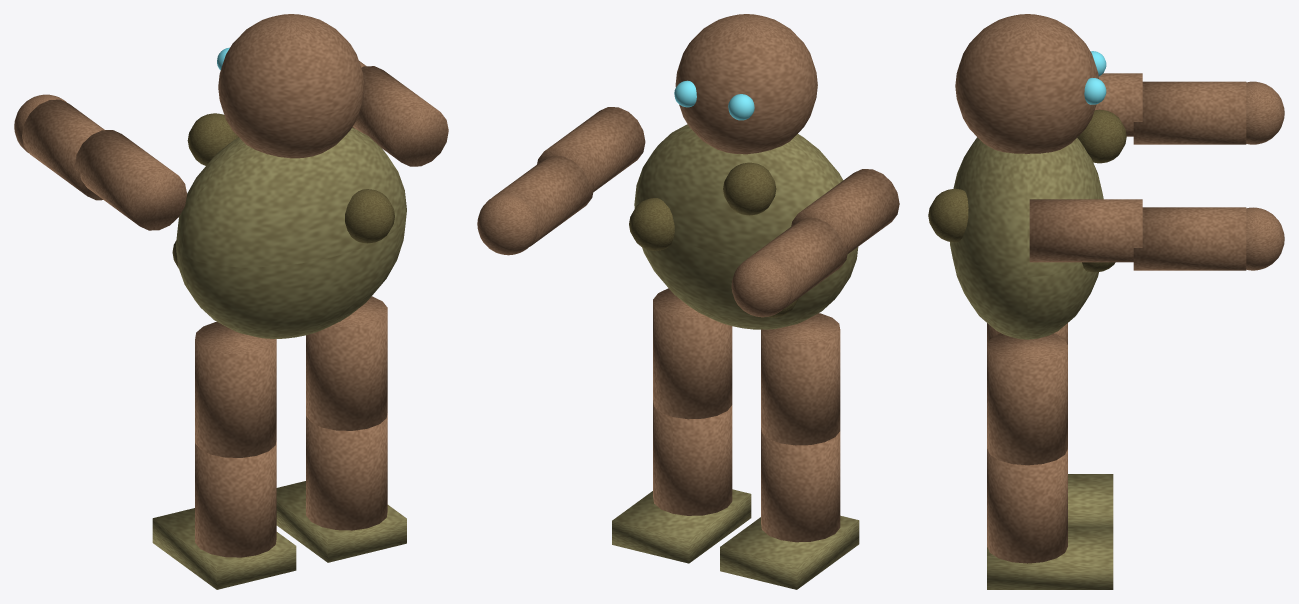
The model's file is drowned-sailor.glb.
3 views of the same model, side by side, from view 1: azimuth 30°, elevation 25°; view 2: azimuth 150°, elevation 25°; view 3: azimuth 270°, elevation 25° (orthographic). The views are drawn at different scales.
Parts seen in each view (by area): view 1: Torso, Head, ThighL, ThighR, ShinL, ShinR, UpperArmL, UpperArmR, FootL, FootR, ForearmL, RotPatch.002 (+2 smaller); view 2: Torso, Head, ThighL, ThighR, ShinL, ShinR, FootR, FootL, UpperArmR, UpperArmL, ForearmR, ForearmL (+5 smaller); view 3: Torso, Head, ThighR, ShinR, UpperArmR, ForearmR, ForearmL, FootR, FootL, HandL, HandR, UpperArmL (+3 smaller).
Boxes of the visible parts, x1,y1,x2,y2 form: Torso: [175, 127, 406, 338]; Head: [218, 14, 364, 158]; ThighL: [195, 322, 276, 457]; ThighR: [306, 296, 387, 430]; ShinL: [195, 440, 276, 557]; ShinR: [306, 413, 387, 530]; UpperArmL: [74, 130, 187, 230]; UpperArmR: [352, 66, 448, 166]; FootL: [152, 508, 296, 589]; FootR: [276, 481, 406, 562]; ForearmL: [22, 99, 104, 200]; RotPatch.002: [345, 189, 394, 243]; Torso: [634, 124, 858, 329]; Head: [675, 14, 817, 154]; ThighL: [761, 313, 840, 445]; ThighR: [653, 288, 732, 419]; ShinL: [761, 428, 840, 542]; ShinR: [653, 400, 732, 515]; FootR: [612, 489, 751, 563]; FootL: [720, 515, 859, 589]; UpperArmR: [537, 107, 645, 191]; UpperArmL: [791, 169, 899, 253]; ForearmR: [492, 155, 594, 246]; ForearmL: [747, 217, 848, 308]; Torso: [950, 137, 1103, 339]; Head: [955, 14, 1098, 153]; ThighR: [987, 333, 1067, 465]; ShinR: [987, 449, 1067, 563]; UpperArmR: [1029, 199, 1142, 262]; ForearmR: [1133, 207, 1246, 270]; ForearmL: [1133, 81, 1246, 144]; FootR: [987, 527, 1113, 589]; FootL: [1068, 474, 1113, 527]; HandL: [1246, 81, 1284, 144]; HandR: [1246, 207, 1284, 270]; UpperArmL: [1095, 73, 1142, 136].
Size of the model in its own units: 0.625 by 1 by 0.6172.
7 materials, 6 textured.
